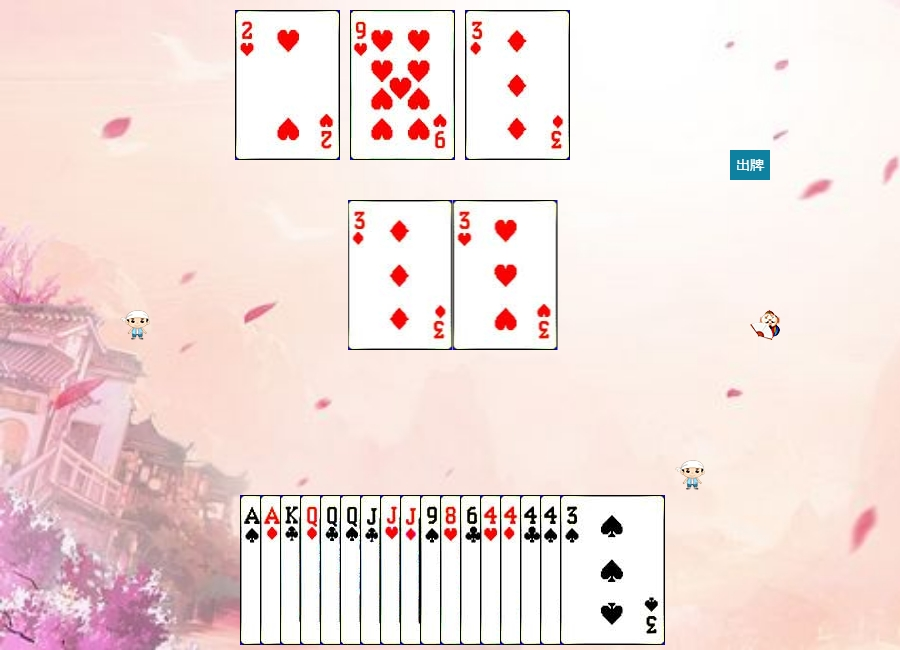11~1: (400, 495, 505, 645)
11~2: (360, 495, 465, 645)
11~3: (380, 495, 485, 645)
12~1: (300, 495, 405, 645)
12~2: (320, 495, 425, 645)
12~4: (340, 495, 445, 645)
13~2: (280, 495, 385, 645)
14~1: (260, 495, 365, 645)
14~4: (240, 495, 345, 645)
15~3: (235, 10, 340, 160)
3~1: (465, 10, 570, 160), (348, 200, 453, 350)
3~3: (453, 200, 558, 350)
3~4: (560, 495, 665, 645)
4~1: (500, 495, 605, 645)
4~2: (520, 495, 625, 645)
4~3: (480, 495, 585, 645)
4~4: (540, 495, 645, 645)
6~2: (460, 495, 565, 645)
8~3: (440, 495, 545, 645)
9~3: (350, 10, 455, 160)
9~4: (420, 495, 525, 645)
